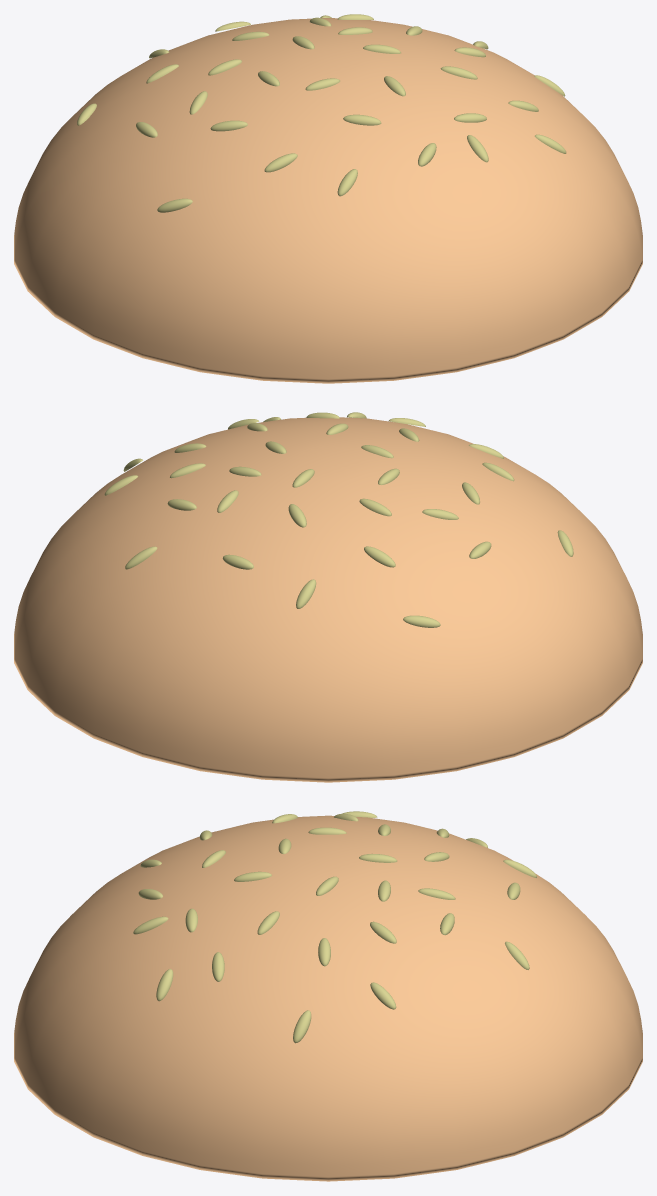
The model's file is TopBunSeedy04.fbx.
3 views of the same model, one above another, from view 1: azimuth 30°, elevation 25°; view 2: azimuth 150°, elevation 25°; view 3: azimuth 270°, elevation 25° (orthographic).
Visible parts, largest first — view 1: TopBun, Seed33; view 2: TopBun, Seed33; view 3: TopBun, Seed33.
Part boxes in pixels (x1,y1,x2,y2): TopBun: (14, 18, 642, 383); Seed33: (77, 14, 566, 212); TopBun: (14, 417, 642, 782); Seed33: (104, 412, 573, 627); TopBun: (14, 815, 642, 1181); Seed33: (133, 811, 536, 1043).
Size of the model in its own units: 9.78 by 3.32 by 9.73.
